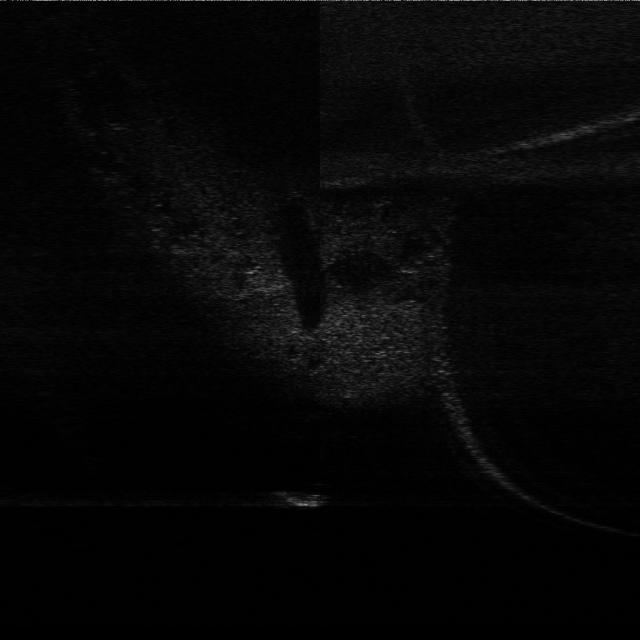square cage: (267, 474, 339, 510)
